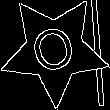O_S: (26, 18, 82, 81)
